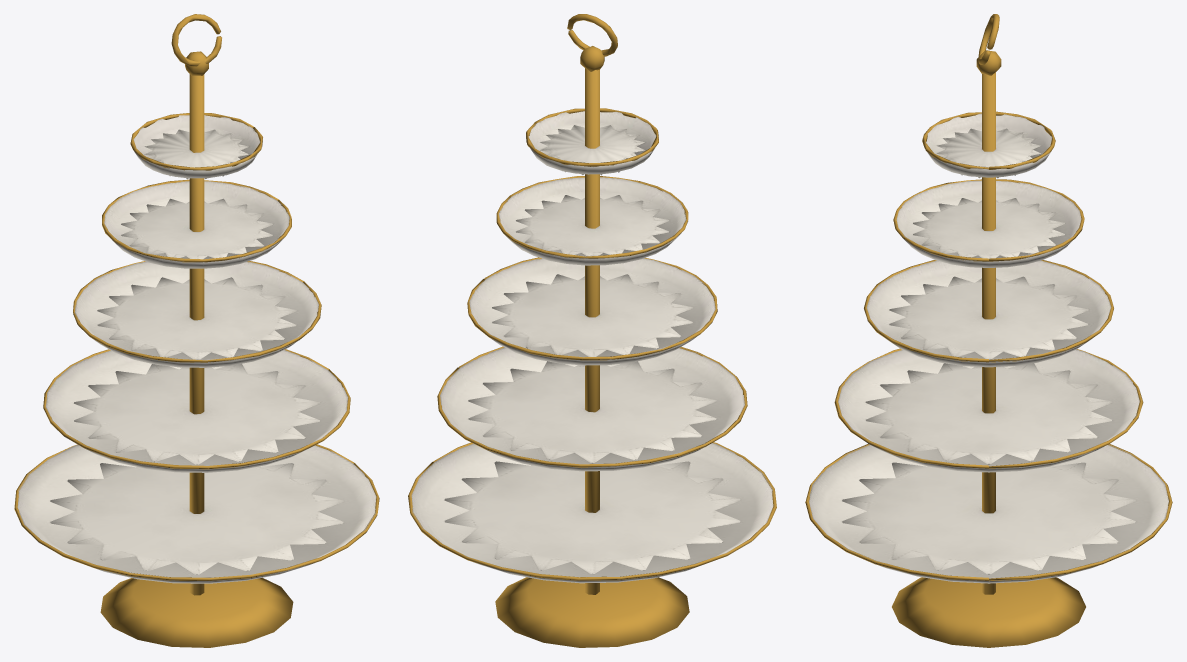
File: tea_stand.glb
3 views of the same model, side by side, from view 1: azimuth 30°, elevation 25°; view 2: azimuth 150°, elevation 25°; view 3: azimuth 270°, elevation 25° (orthographic).
Parts seen in each view (by area): view 1: prop_tea_stand_felt, prop_tea_stand_brass; view 2: prop_tea_stand_felt, prop_tea_stand_brass; view 3: prop_tea_stand_felt, prop_tea_stand_brass.
Boxes of the visible parts, x1=… form: prop_tea_stand_felt: x1=17, y1=115, x2=376, y2=583; prop_tea_stand_brass: x1=14, y1=14, x2=379, y2=647; prop_tea_stand_felt: x1=411, y1=111, x2=773, y2=583; prop_tea_stand_brass: x1=408, y1=14, x2=776, y2=647; prop_tea_stand_felt: x1=809, y1=113, x2=1168, y2=583; prop_tea_stand_brass: x1=805, y1=14, x2=1172, y2=647.
Size of the model in its own units: 1.47 by 2.61 by 1.47.
2 materials, 1 textured.
